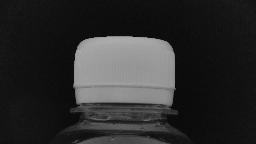Good Cap: (67, 32, 181, 122)
